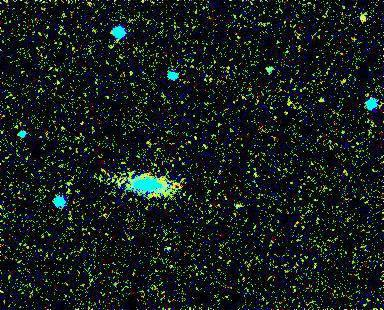star: (348, 3, 378, 33)
